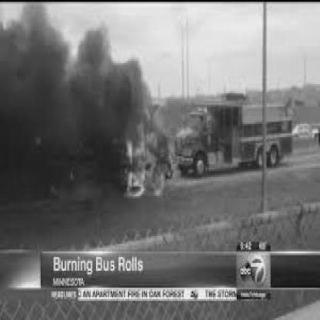Fire: (119, 110, 174, 204)
